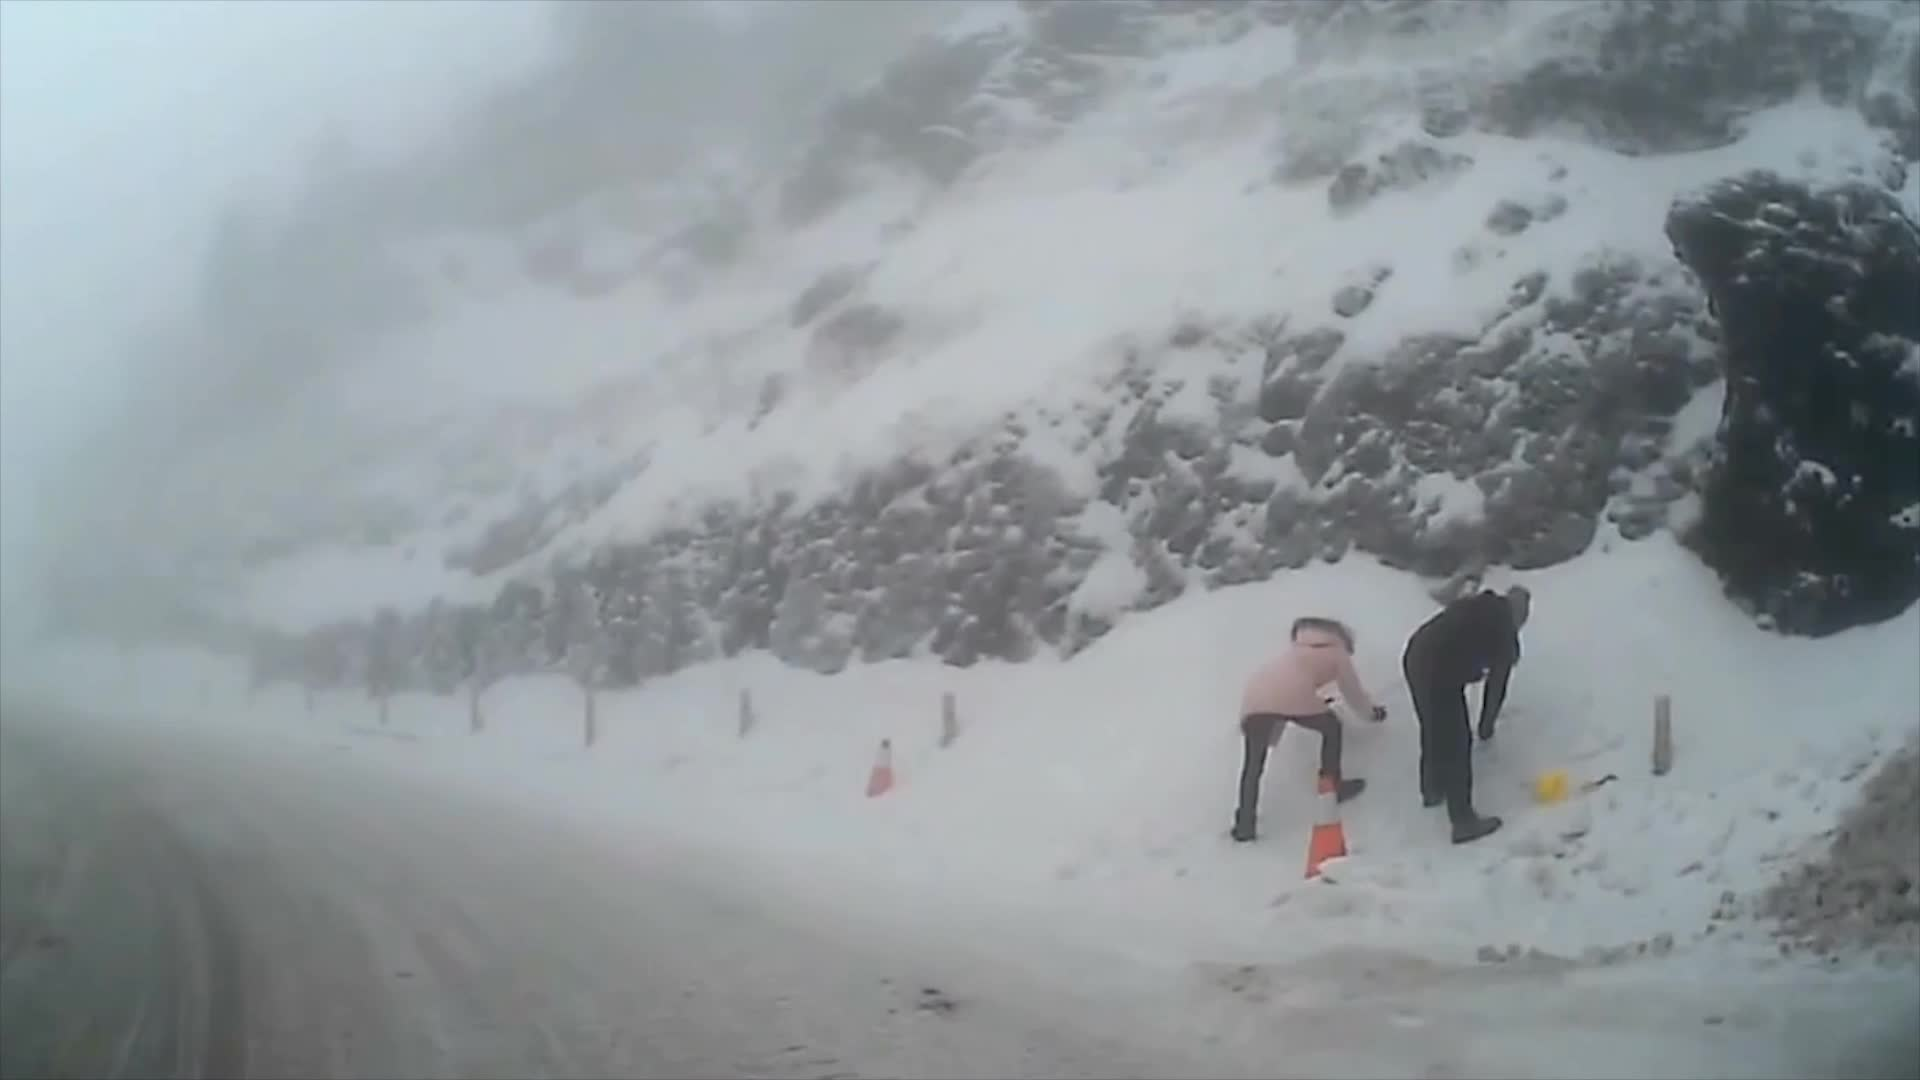pedestrian: (1229, 615, 1387, 850), (1401, 590, 1533, 847)
